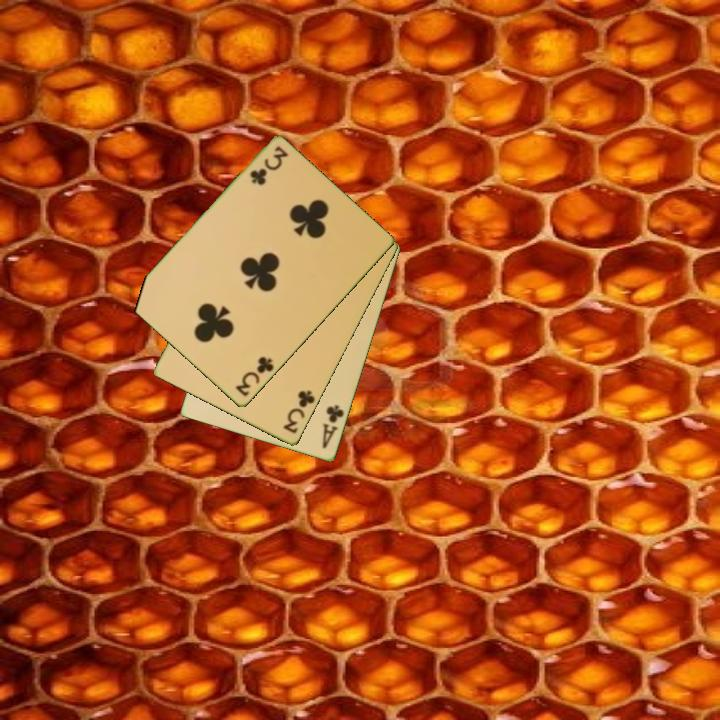3c: (232, 353, 277, 400), (246, 143, 291, 188), (280, 387, 318, 437)
Ac: (319, 402, 347, 452)
